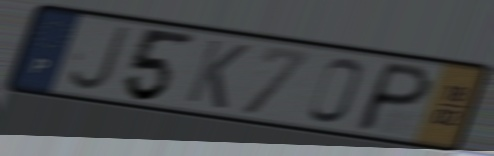0: (307, 57, 367, 125)
5: (119, 25, 200, 103)
7: (244, 44, 314, 118)
J: (65, 23, 133, 94)
K: (181, 36, 253, 112)
P: (351, 59, 437, 135)
